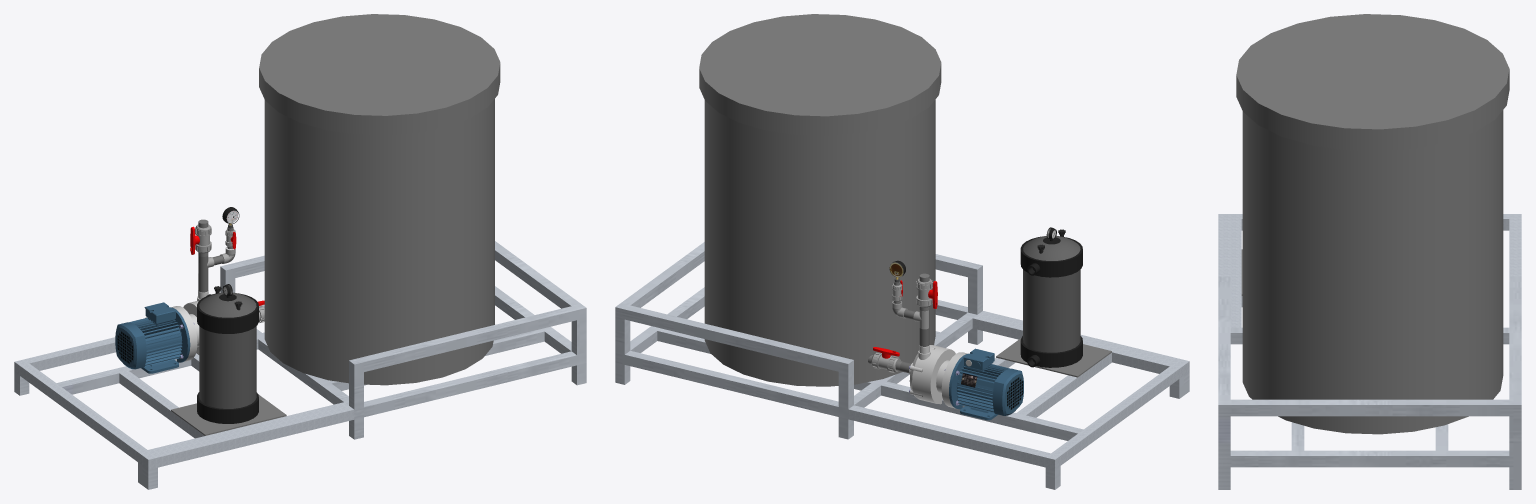
Rendered from stage6_6.gltf.
3 renders of one model, left to right at view 1: azimuth 30°, elevation 25°; view 2: azimuth 150°, elevation 25°; view 3: azimuth 270°, elevation 25°, orthographic. The views are drawn at different scales.
Visible parts, largest first — view 1: tanks combined#2, object 3, object 4, object 54, object 1, Component#37, object 2, Component#34, object 61, object 53, object 51, Component#28 (+1 smaller); view 2: tanks combined#2, object 3, object 4, object 54, object 1, Component#28, Component#37, valvula500.1abierta#5 (×2), Component#34, object 2, object 61, object 53 (+1 smaller); view 3: tanks combined#2, object 3, object 4, object 1.
Part boxes in pixels (x1,y1,x2,y2): tanks combined#2: (259, 14, 500, 385); object 3: (220, 241, 586, 419); object 4: (14, 337, 354, 469); object 54: (199, 326, 256, 408); object 1: (14, 338, 586, 489); Component#37: (129, 317, 182, 366); object 2: (171, 395, 286, 435); Component#34: (115, 322, 146, 369); object 61: (197, 293, 258, 333); object 53: (199, 292, 256, 317); object 51: (197, 392, 258, 423); Component#28: (171, 301, 199, 361); tanks combined#2: (699, 14, 941, 386); object 3: (615, 242, 982, 419); object 4: (848, 311, 1189, 469); object 54: (1023, 269, 1080, 352); object 1: (615, 328, 1189, 489); Component#28: (909, 345, 967, 408); Component#37: (956, 364, 1010, 413); valvula500.1abierta#5 (×2): (868, 273, 937, 372); Component#34: (992, 368, 1023, 415); object 2: (996, 338, 1111, 377); object 61: (1020, 236, 1082, 277); object 53: (1023, 235, 1080, 260); tanks combined#2: (1236, 14, 1509, 434); object 3: (1218, 276, 1521, 467); object 4: (1218, 214, 1521, 327); object 1: (1218, 467, 1521, 489).
Bounding box in the file's own units: 1.83 × 1.2 × 0.97.
Materials: 27 (11 with a texture image).
